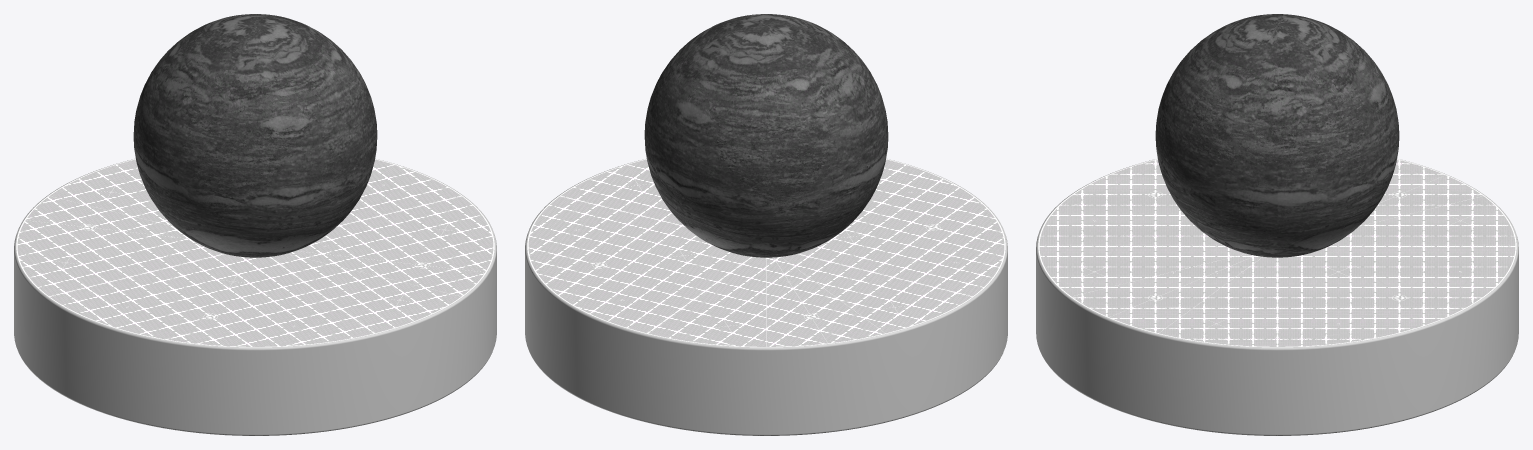
File: HandheldARBlankMap.glb
3 renders of one model, left to right at view 1: azimuth 30°, elevation 25°; view 2: azimuth 150°, elevation 25°; view 3: azimuth 270°, elevation 25°, orthographic.
Visible parts, largest first — view 1: Cylinder, Sphere_1m, Graphics; view 2: Cylinder, Sphere_1m, Graphics; view 3: Cylinder, Sphere_1m, Graphics.
Boxes of the visible parts, x1,y1,x2,y2 form: Cylinder: (14, 158, 496, 435); Sphere_1m: (133, 14, 377, 257); Graphics: (16, 159, 494, 347); Cylinder: (525, 158, 1007, 435); Sphere_1m: (644, 14, 888, 257); Graphics: (527, 159, 1005, 347); Cylinder: (1036, 158, 1518, 435); Sphere_1m: (1155, 14, 1399, 257); Graphics: (1038, 159, 1516, 347).
Size of the model in its own units: 198 by 140 by 198.
5 materials, 2 textured.
